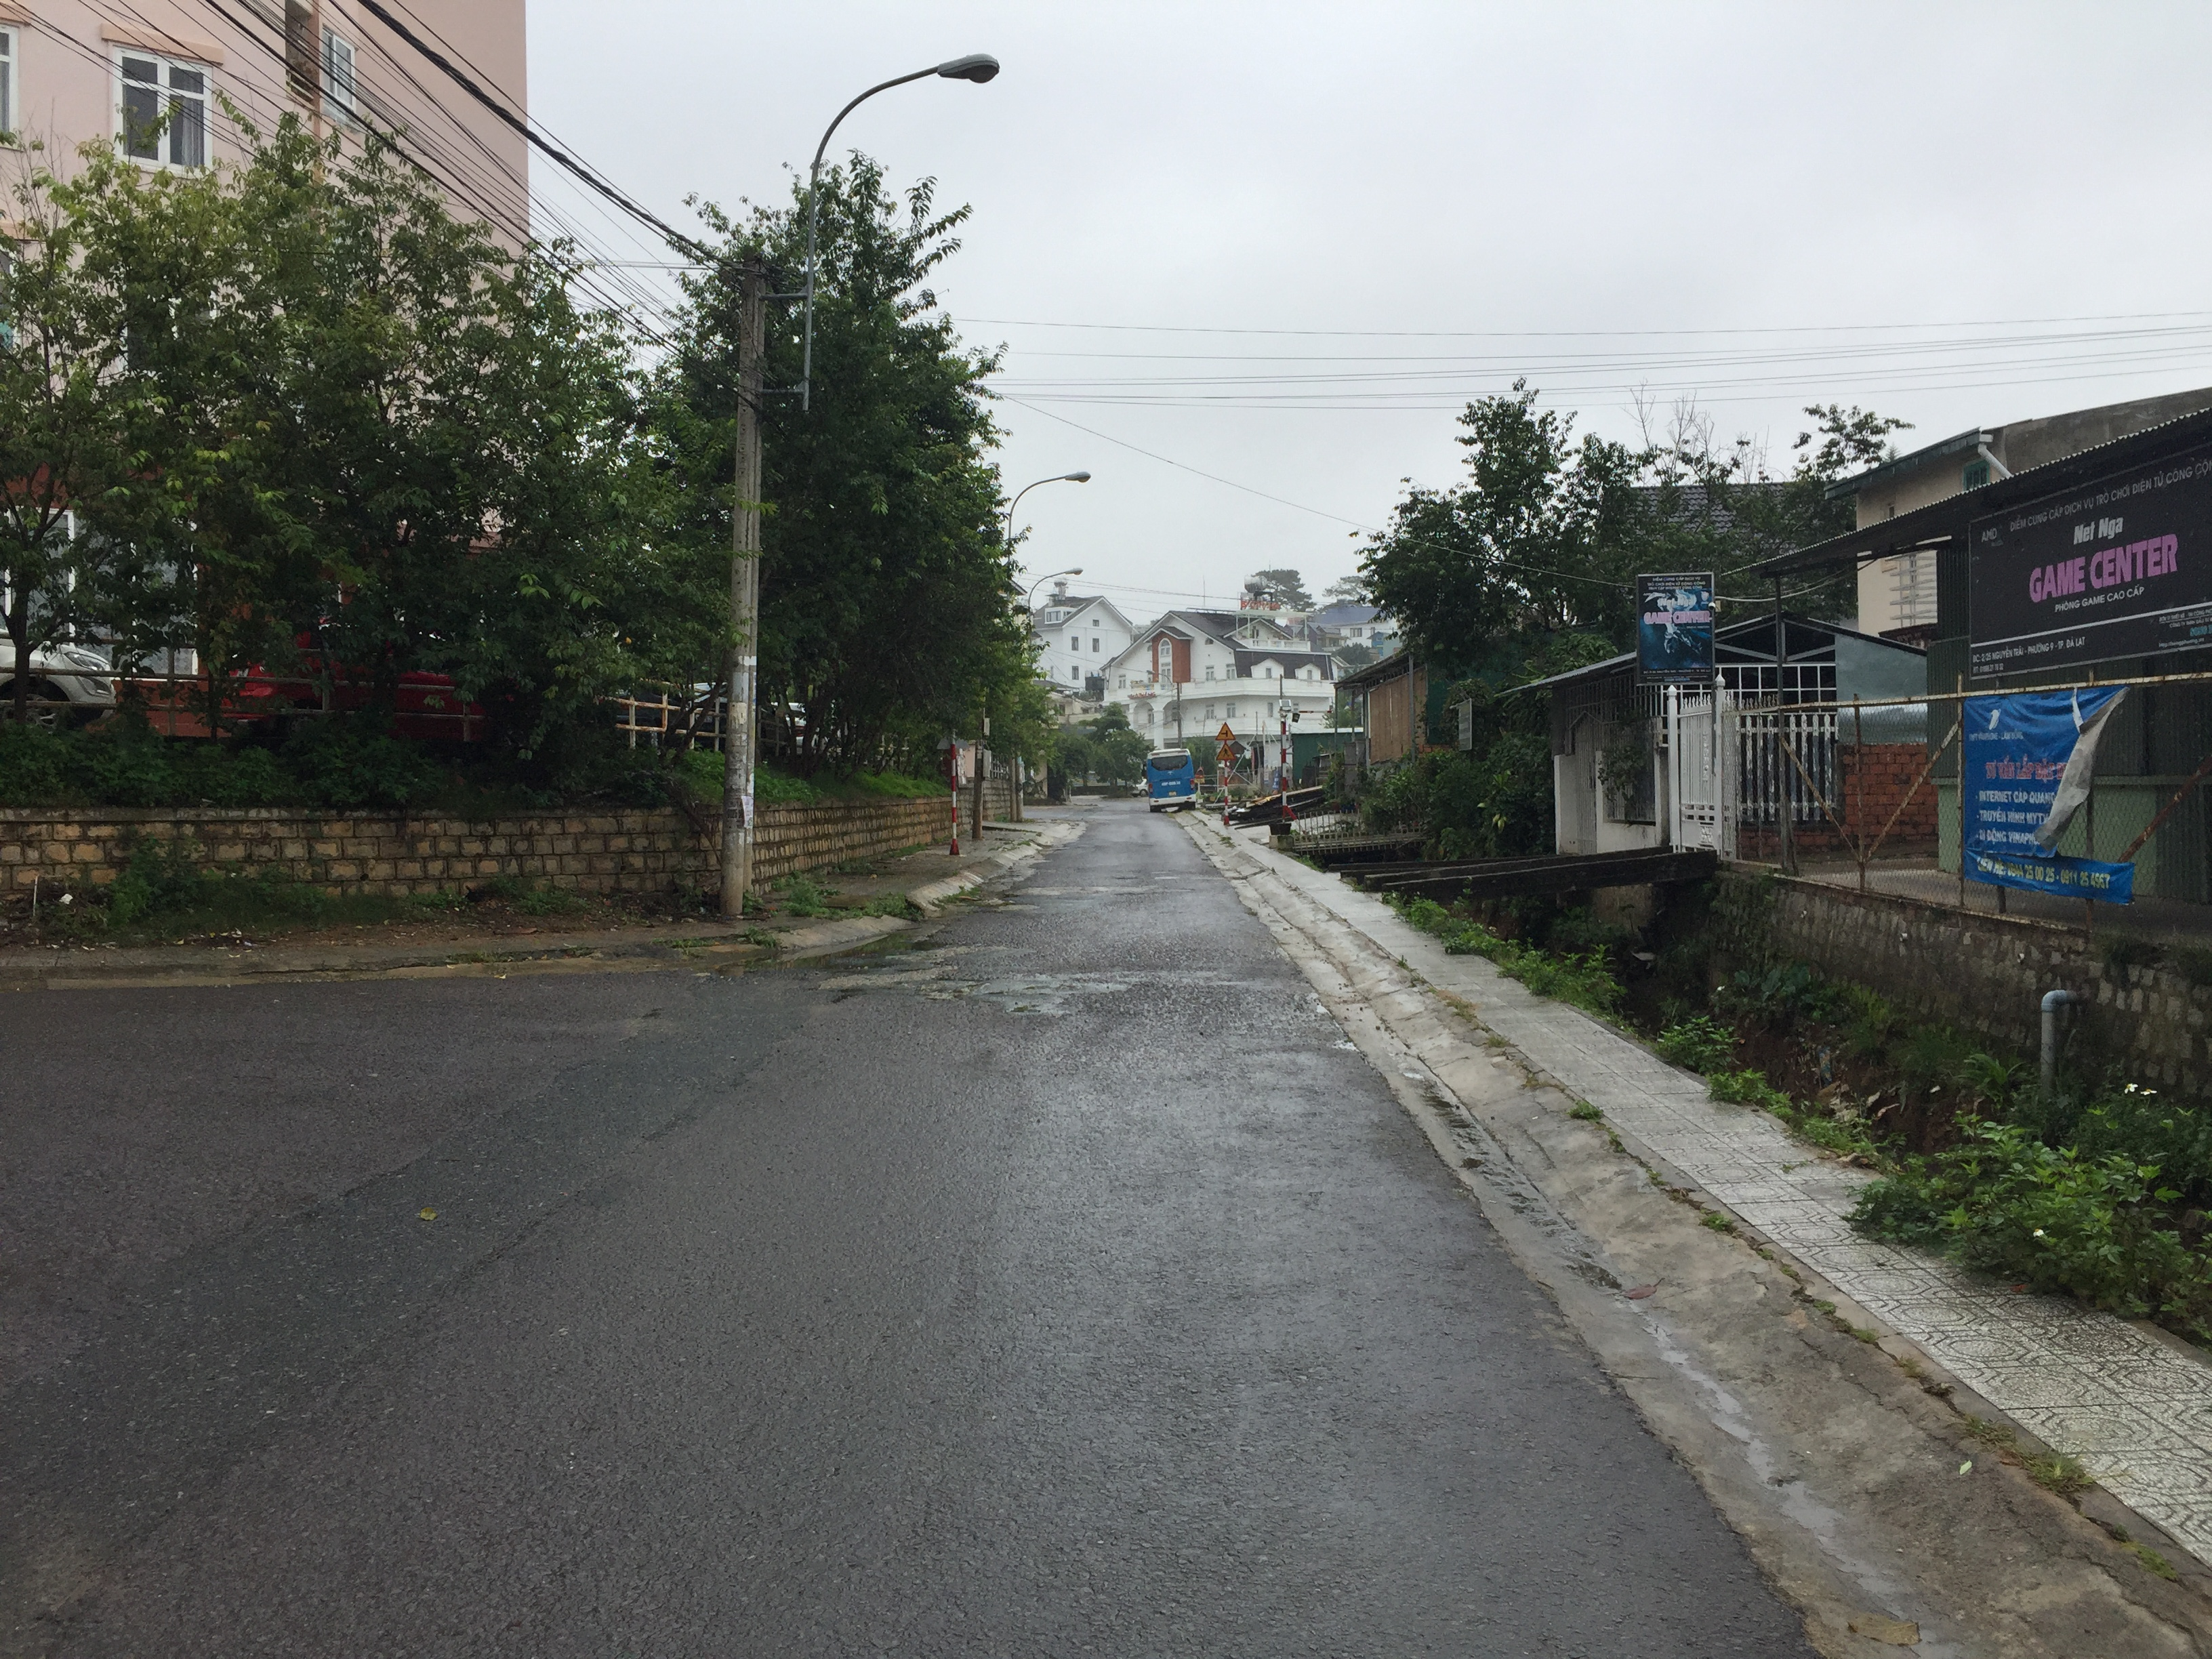hole: (822, 960, 953, 976), (989, 981, 1083, 997), (928, 976, 988, 992), (831, 986, 871, 1002), (907, 939, 951, 950), (1007, 1004, 1045, 1014), (1000, 903, 1042, 911), (1003, 890, 1021, 899), (1165, 887, 1193, 892), (1116, 890, 1144, 896), (1115, 875, 1137, 880)
